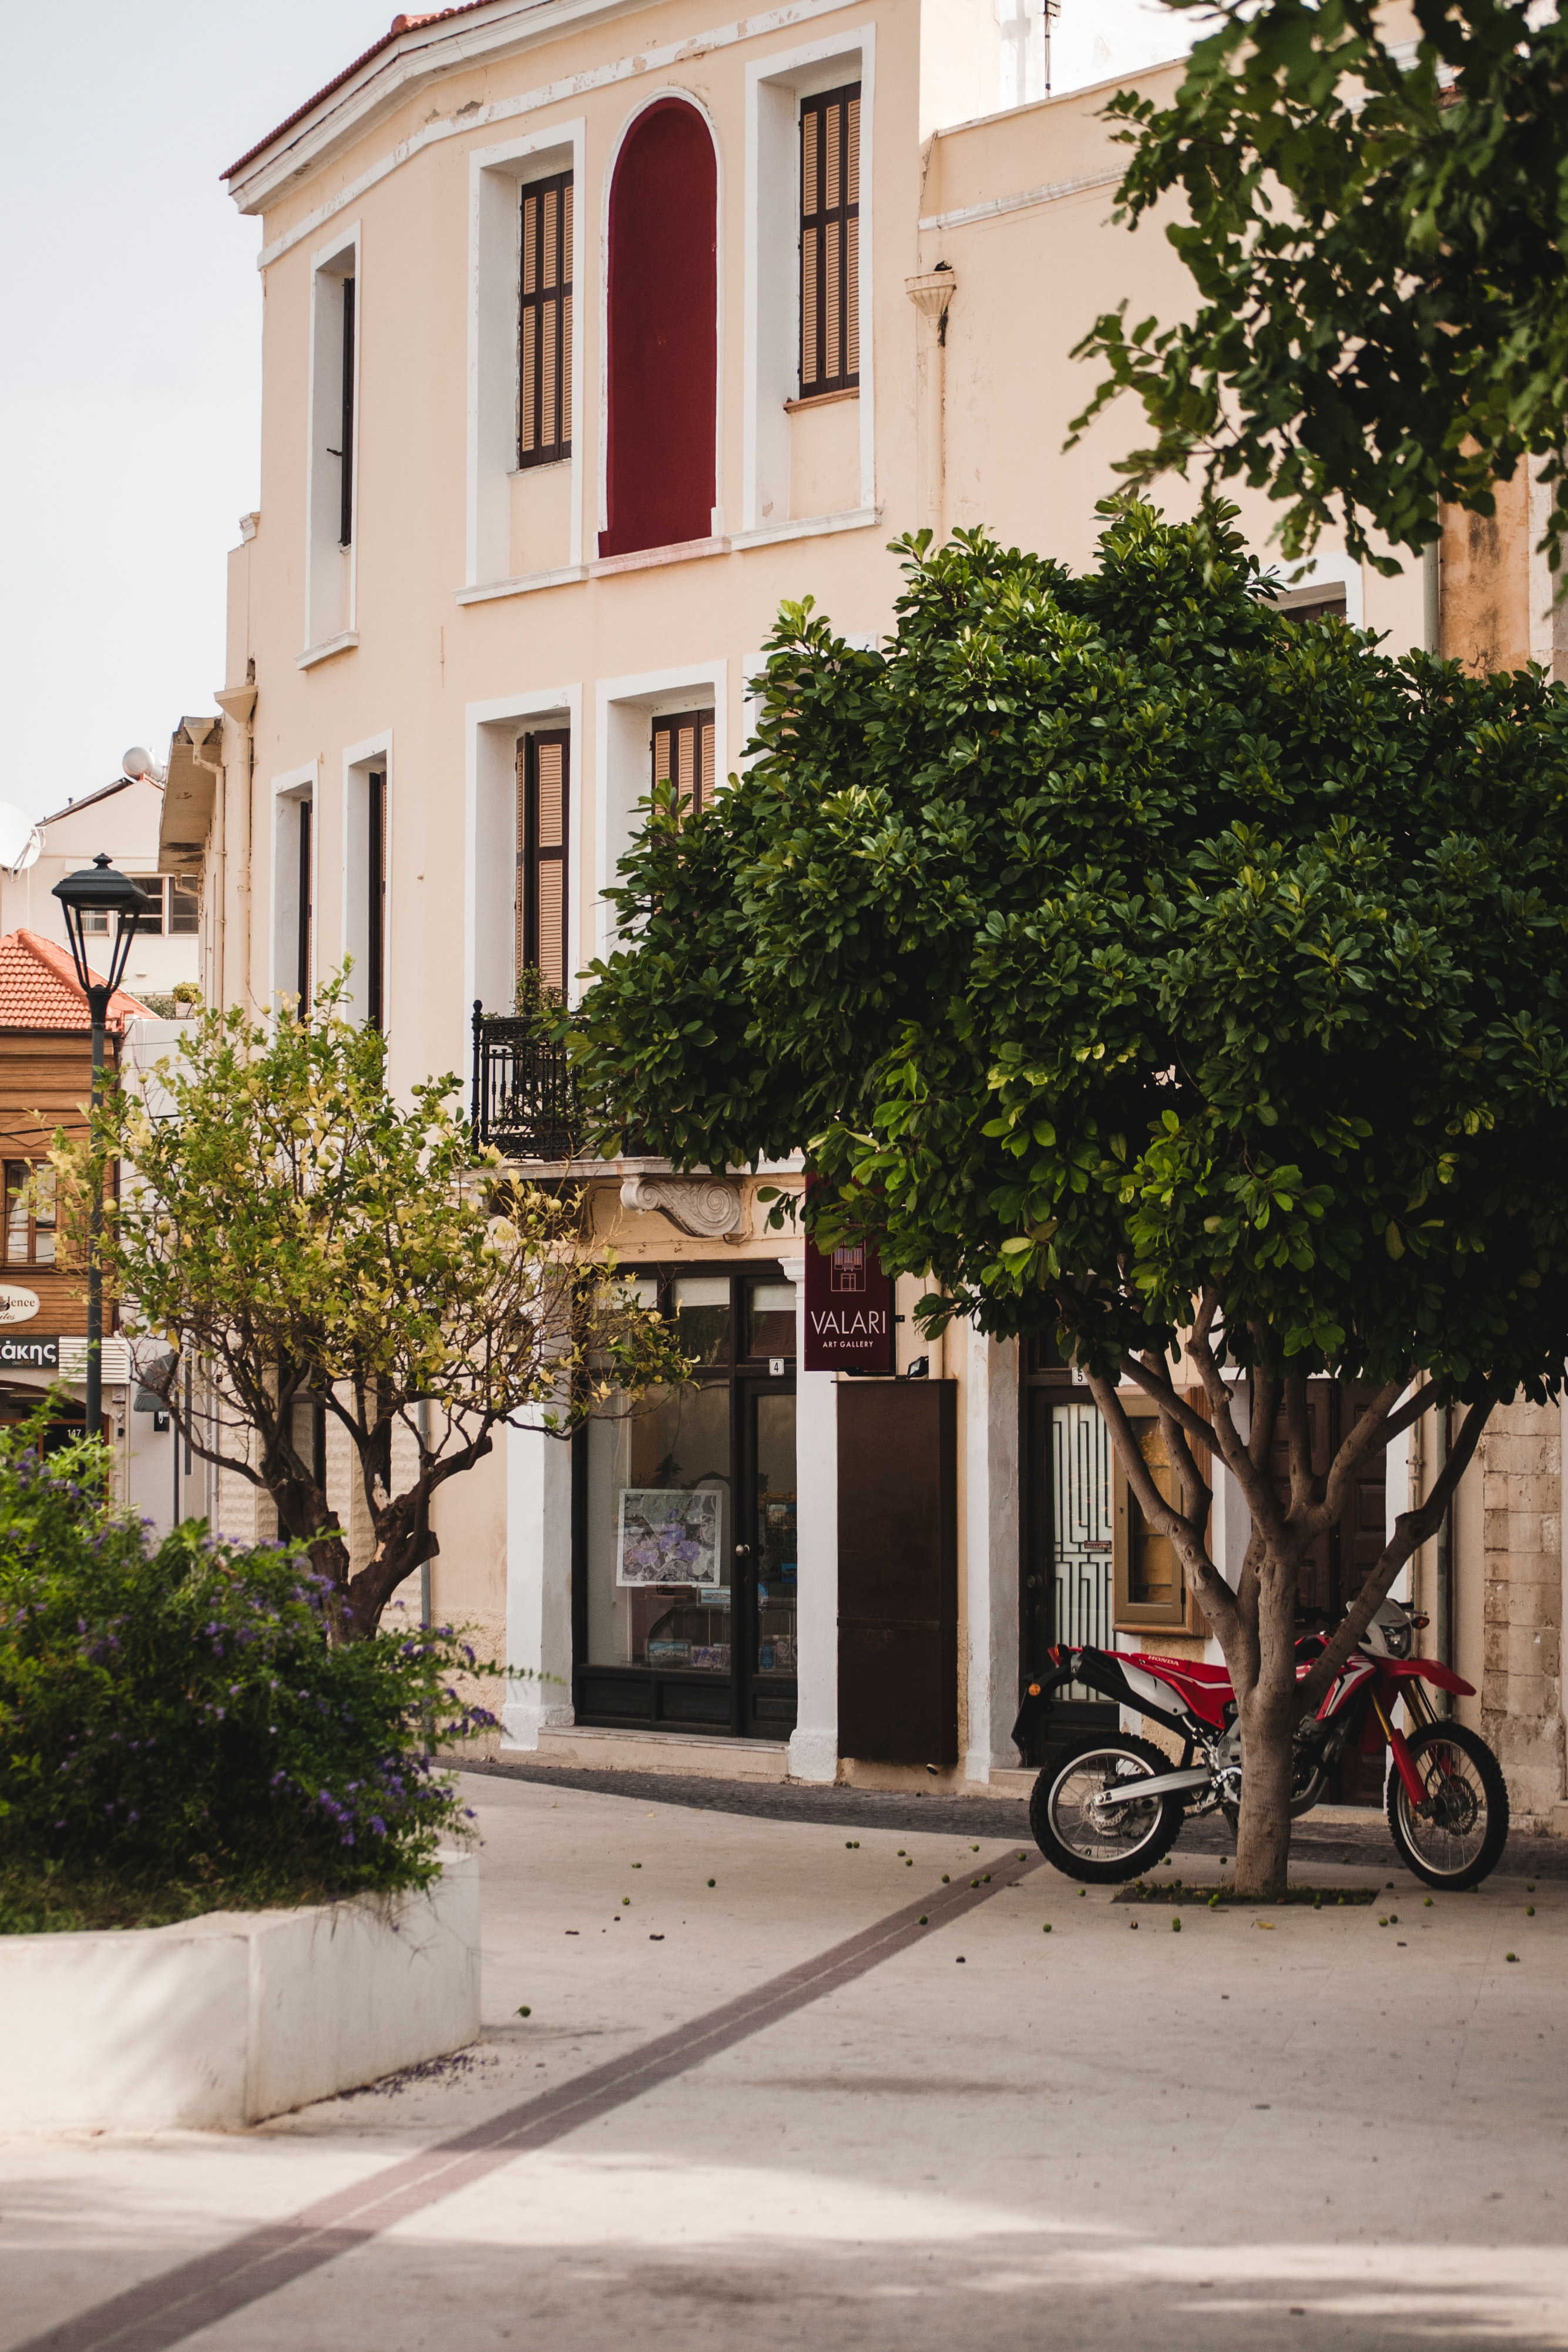tree: (534, 493, 1568, 1895)
